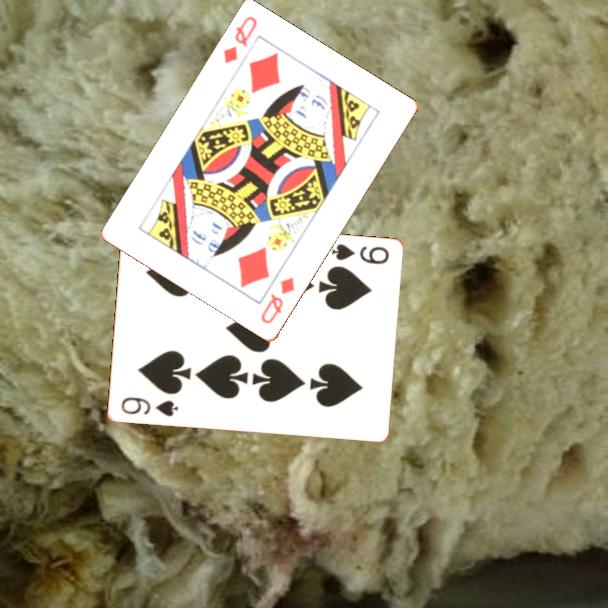d12: (220, 13, 260, 67), (257, 274, 297, 327)
s09: (328, 241, 391, 268), (117, 394, 181, 420)
